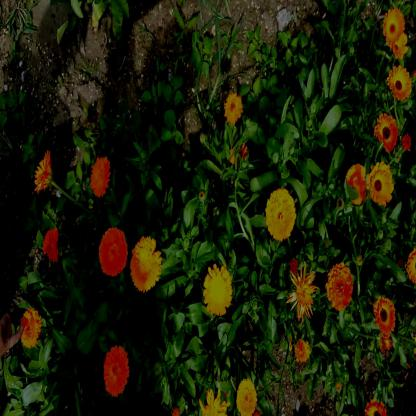marigold: (130, 237, 159, 294), (203, 263, 232, 316), (102, 344, 130, 398), (267, 189, 296, 240), (100, 228, 124, 278), (326, 268, 352, 314), (289, 270, 316, 314), (344, 162, 369, 208), (368, 164, 392, 204), (373, 298, 397, 338), (382, 7, 404, 48), (388, 65, 411, 103), (374, 112, 397, 150), (90, 156, 110, 198), (21, 308, 42, 346), (40, 225, 60, 264), (226, 137, 249, 170), (237, 379, 258, 414), (34, 154, 54, 190), (290, 328, 311, 362), (225, 93, 244, 122), (391, 27, 408, 59)
